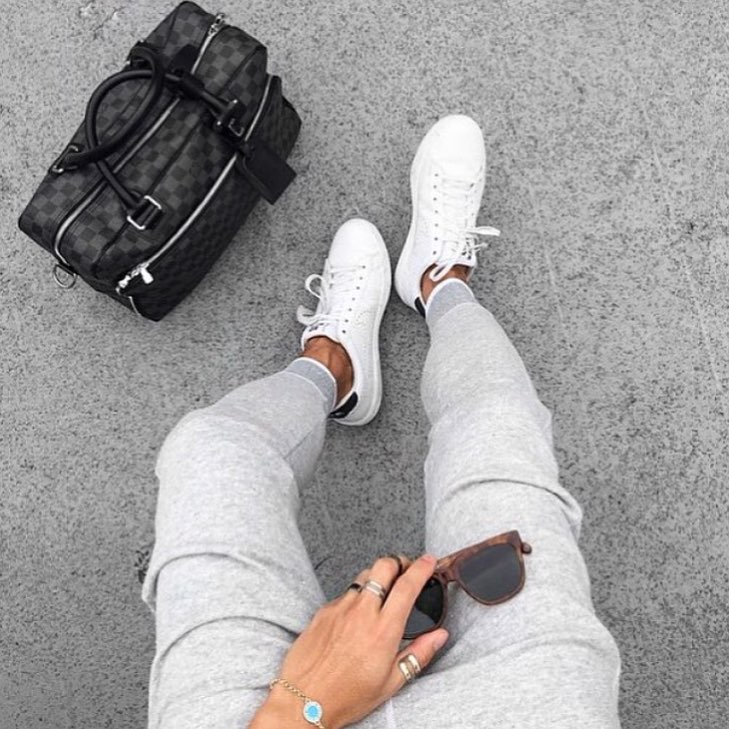sneaker: (285, 208, 407, 440), (385, 99, 506, 323)
